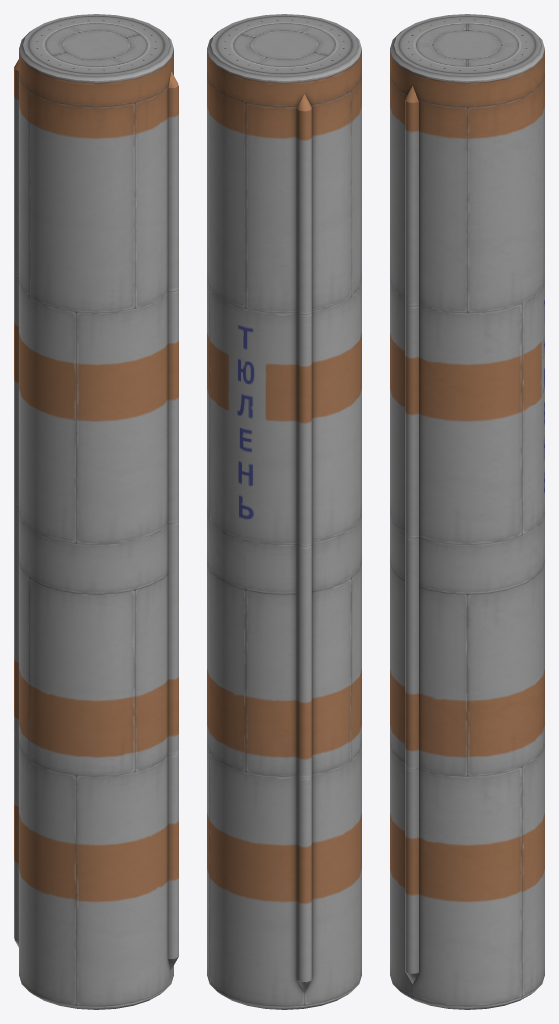
Rendered from CLV_1_LFO_1.obj.
The picture shows the model from 3 angles, left to right: view 1: azimuth 30°, elevation 25°; view 2: azimuth 150°, elevation 25°; view 3: azimuth 270°, elevation 25°; orthographic projection.
Visible parts, largest first — view 1: CLV_1_LFO_1; view 2: CLV_1_LFO_1; view 3: CLV_1_LFO_1.
Boxes of the visible parts, bbox=[...] form: CLV_1_LFO_1: bbox=[14, 14, 178, 1009]; CLV_1_LFO_1: bbox=[207, 14, 361, 1009]; CLV_1_LFO_1: bbox=[390, 14, 544, 1009].
Size of the model in its own units: 1.25 by 8.31 by 1.25.
